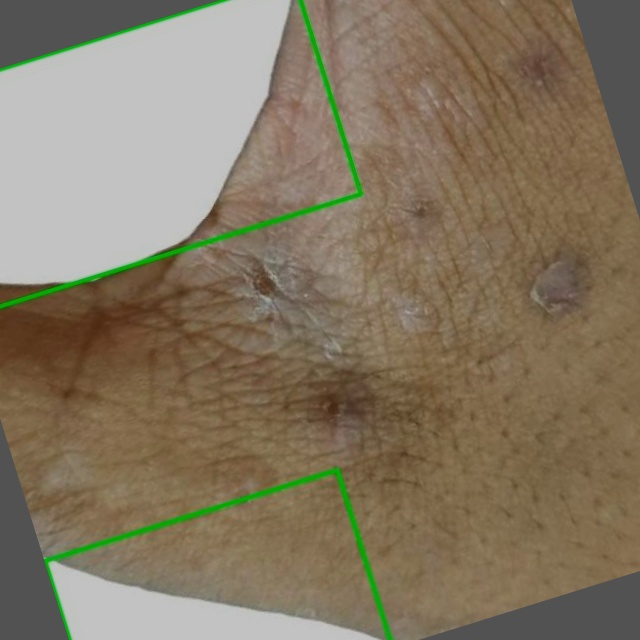Scabies: (0, 0, 361, 306), (45, 470, 390, 639)
